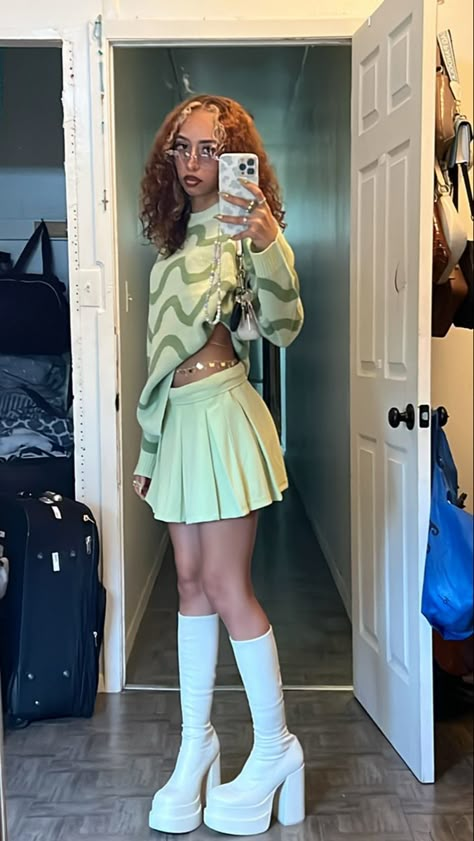Imprimante: (202, 243, 385, 556)
